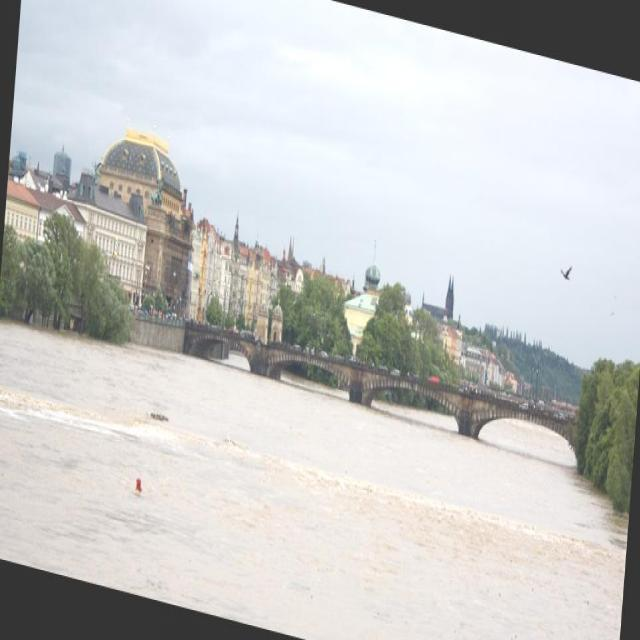flood: (0, 271, 635, 639)
